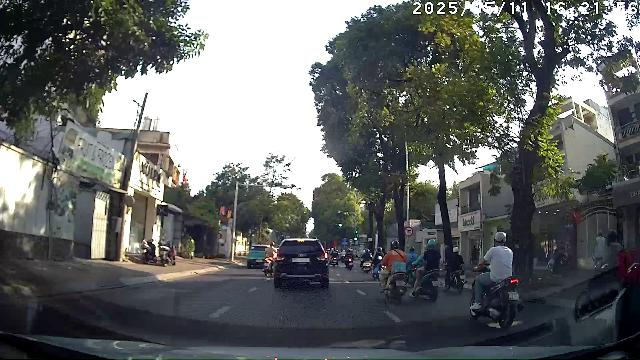123b-cam-re-phai: (404, 226, 414, 236)
